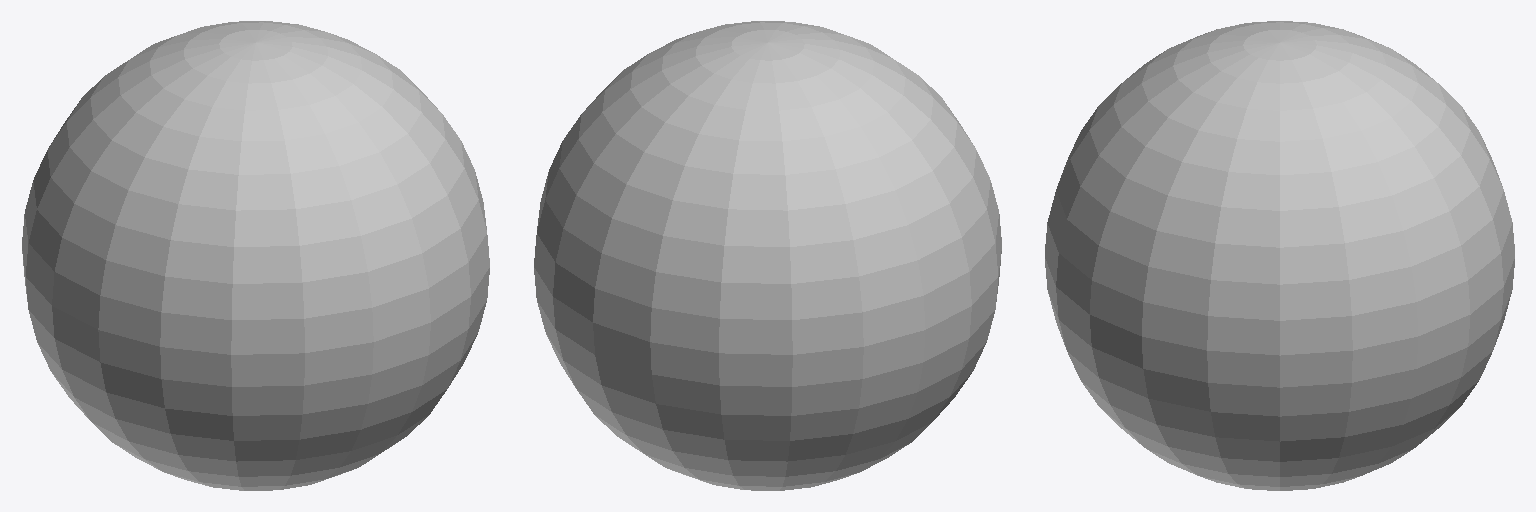
File: neck.obj
3 renders of one model, left to right at view 1: azimuth 30°, elevation 25°; view 2: azimuth 150°, elevation 25°; view 3: azimuth 270°, elevation 25°, orthographic.
Parts seen in each view (by area): view 1: pSphere2; view 2: pSphere2; view 3: pSphere2.
Boxes of the visible parts, x1,y1,x2,y2 form: pSphere2: [22, 21, 489, 490]; pSphere2: [534, 21, 1001, 490]; pSphere2: [1045, 21, 1514, 490].
Size of the model in its own units: 0.5692 by 0.5692 by 0.5692.